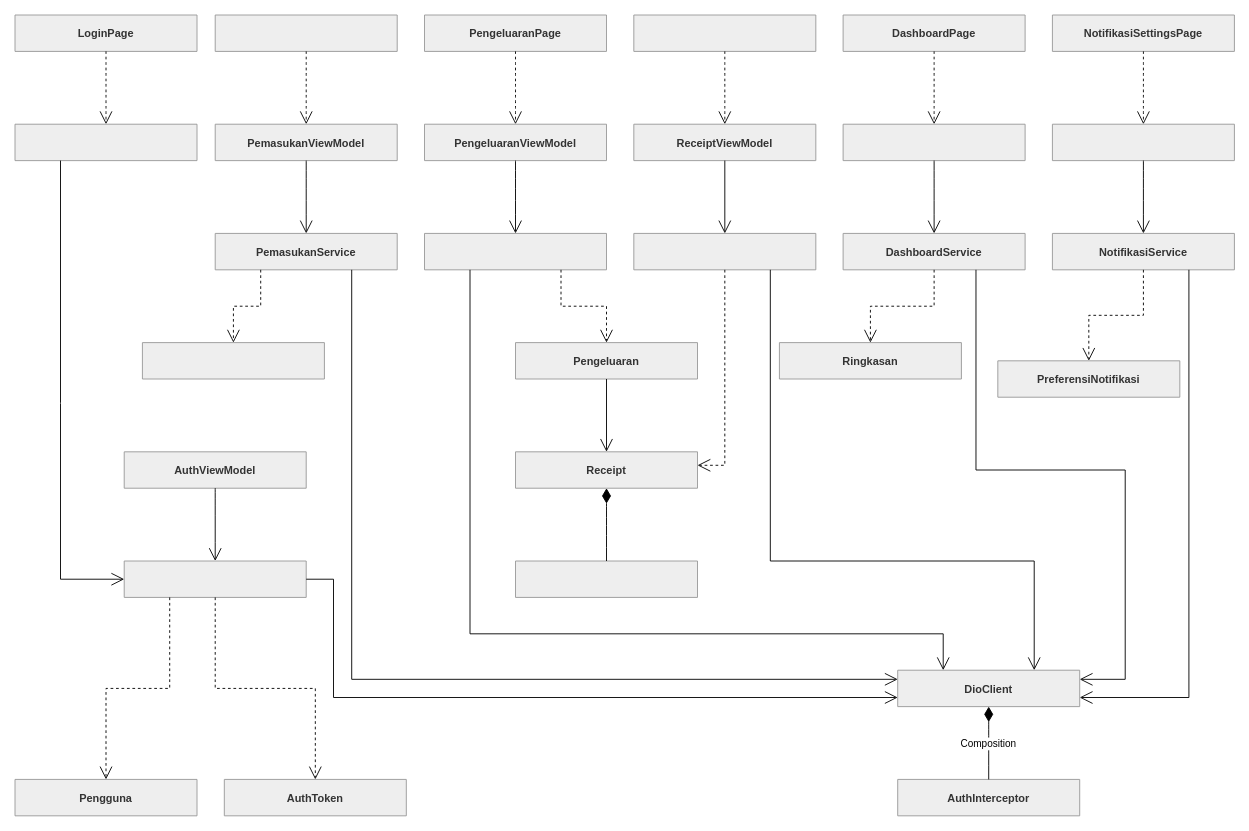
The diagram is 1249 pixels wide and 831 high, and some of its shapes have lost their labels. Here are the shapes that lost their labels. From the top down, the centre of each, then its label:
the point at 305,32: PemasukanPage
the point at 724,32: ReceiptScanPage
the point at 105,142: LoginViewModel
the point at 933,142: DashboardViewModel
the point at 1143,142: NotifikasiViewModel
the point at 515,251: PengeluaranService
the point at 724,251: ReceiptService
the point at 233,360: Pemasukan
the point at 214,578: AuthService
the point at 606,578: ReceiptItem
